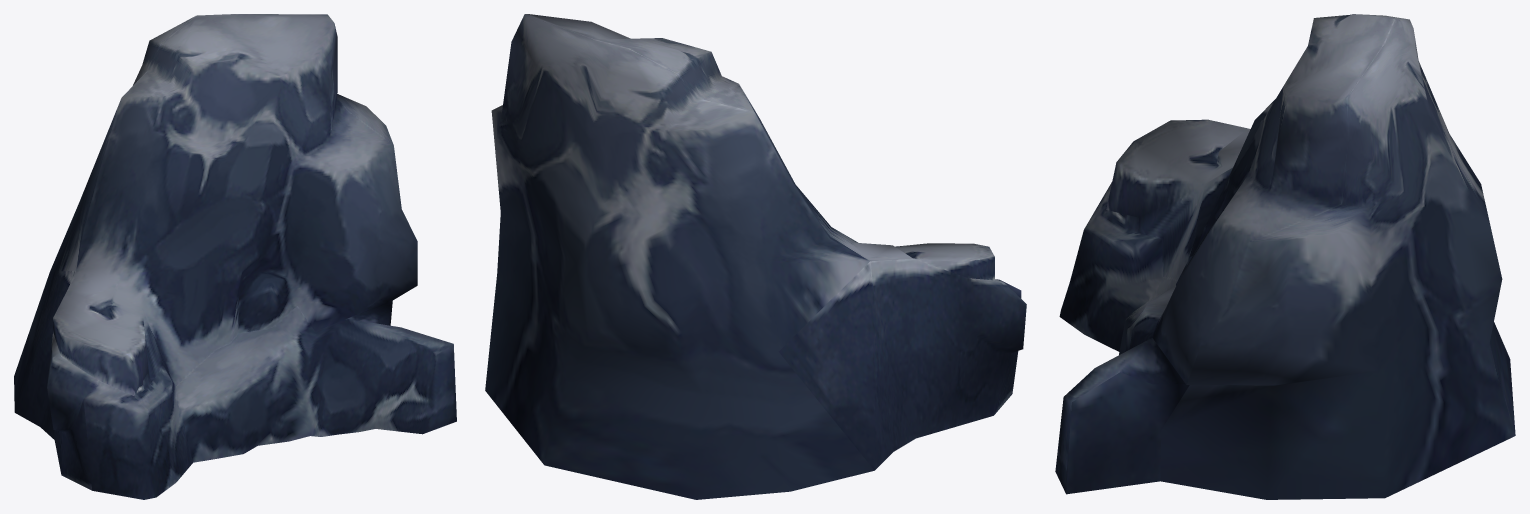
The picture shows the model from 3 angles, left to right: view 1: azimuth 30°, elevation 25°; view 2: azimuth 150°, elevation 25°; view 3: azimuth 270°, elevation 25°; orthographic projection. The views are drawn at different scales.
Visible parts, largest first — view 1: MB0002_05_02; view 2: MB0002_05_02; view 3: MB0002_05_02.
Part boxes in pixels (left/top/right/bottom): MB0002_05_02: left=14, top=14, right=456, bottom=499; MB0002_05_02: left=485, top=14, right=1026, bottom=499; MB0002_05_02: left=1055, top=14, right=1515, bottom=499.
Bounding box in the file's own units: 12.3 × 9.98 × 10.34.
